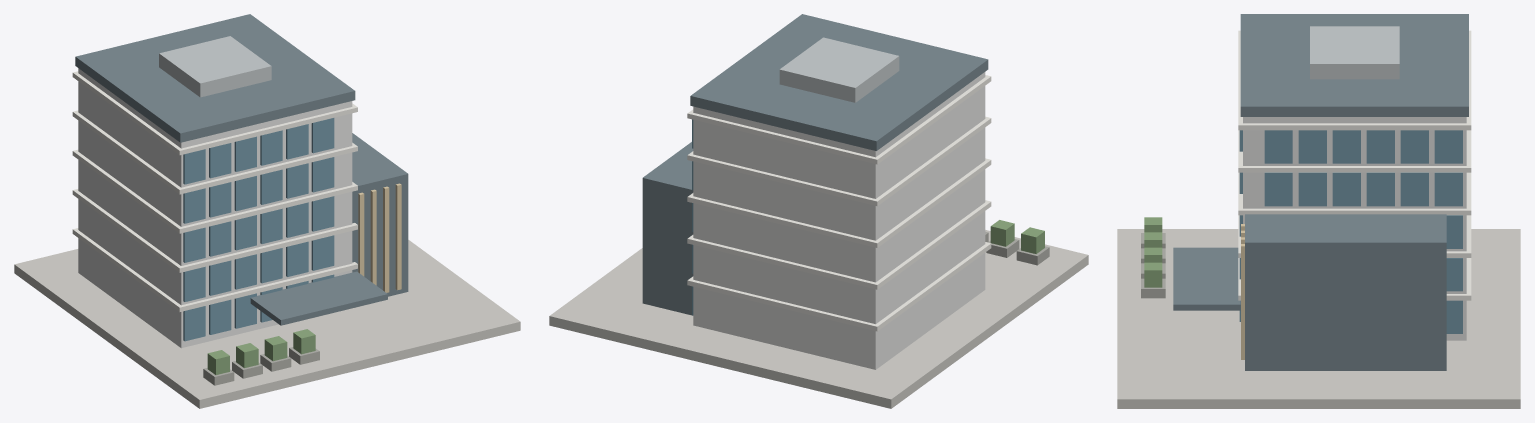
3 views of the same model, side by side, from view 1: azimuth 30°, elevation 25°; view 2: azimuth 150°, elevation 25°; view 3: azimuth 270°, elevation 25° (orthographic). The views are drawn at different scales.
Bounding box in the file's own units: 9 × 6.4 × 9.
